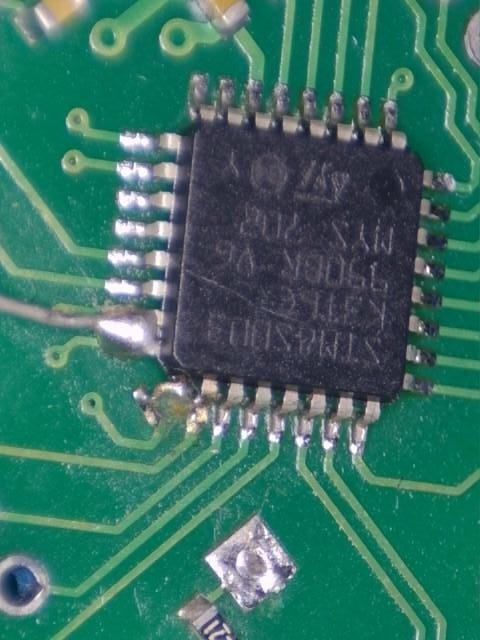pcb_defect: (206, 514, 297, 612), (97, 306, 174, 356), (131, 382, 186, 441)
